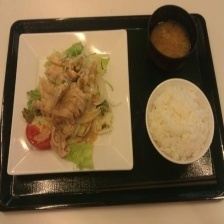rice: (146, 80, 215, 163)
